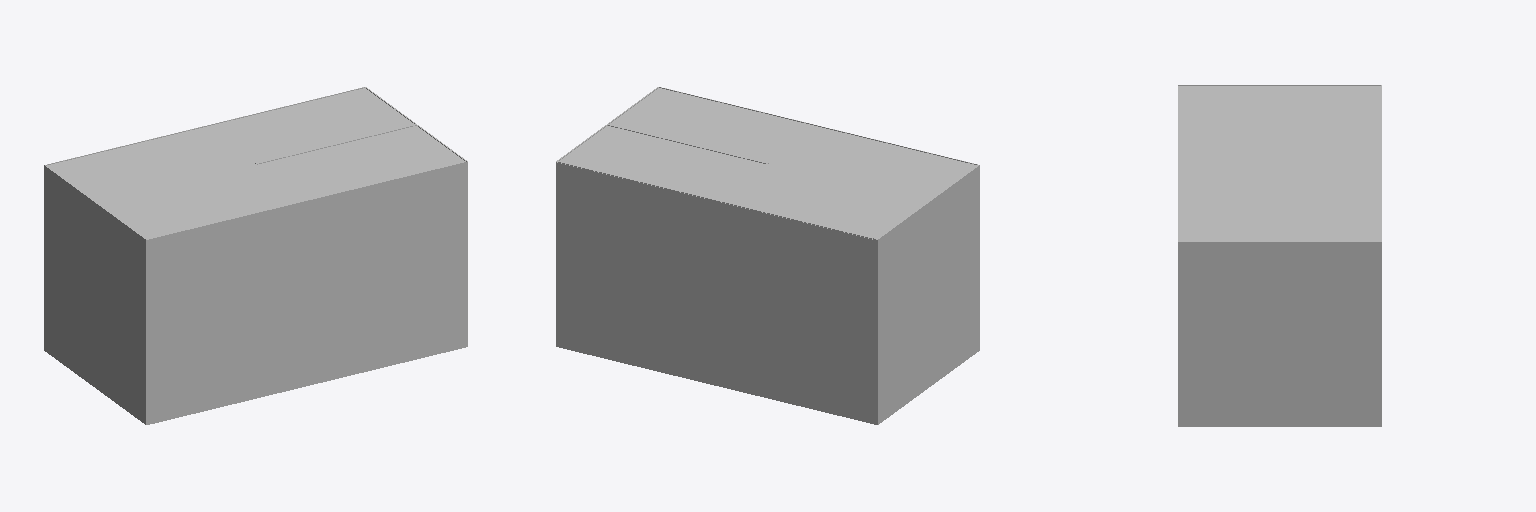
The model's file is lvl3.obj.
3 views of the same model, side by side, from view 1: azimuth 30°, elevation 25°; view 2: azimuth 150°, elevation 25°; view 3: azimuth 270°, elevation 25° (orthographic).
Visible parts, largest first — view 1: Cube_Cube.001; view 2: Cube_Cube.001; view 3: Cube_Cube.001.
Boxes of the visible parts, <box> form: Cube_Cube.001: <box>44,87,467,424</box>; Cube_Cube.001: <box>556,87,979,424</box>; Cube_Cube.001: <box>1178,85,1381,426</box>.
Size of the model in its own units: 44.09 by 24.28 by 24.33.